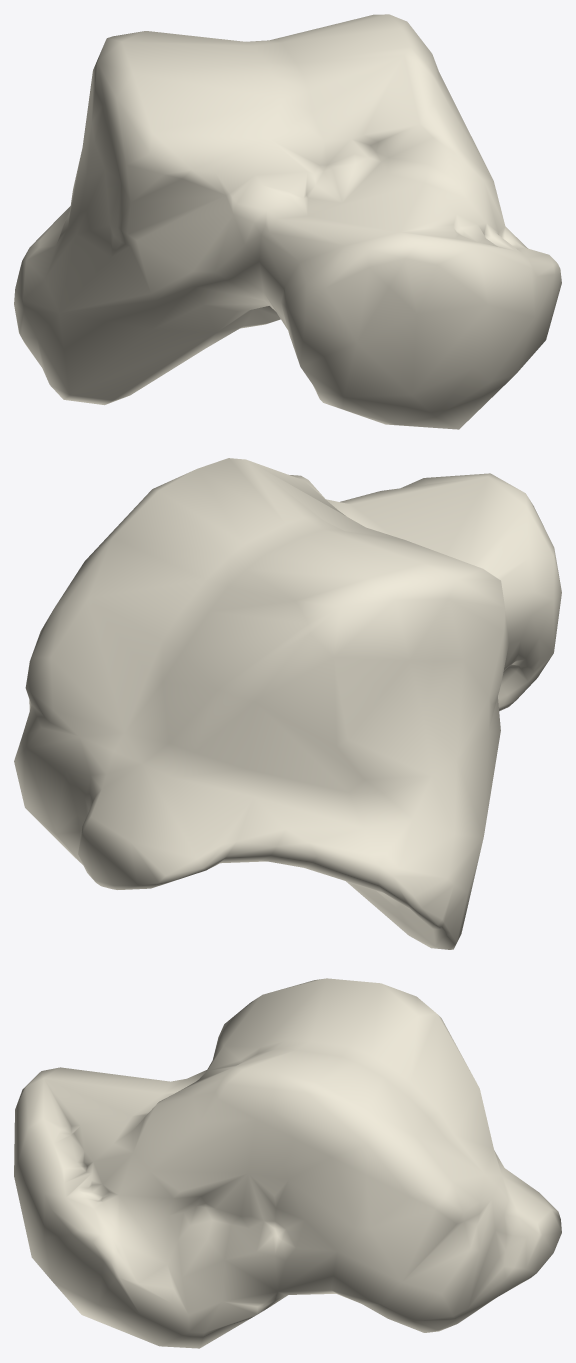
3 renders of one model, top to bottom at view 1: azimuth 30°, elevation 25°; view 2: azimuth 150°, elevation 25°; view 3: azimuth 270°, elevation 25°, orthographic. The views are drawn at different scales.
Visible parts, largest first — view 1: ZA_c1f6c7cdb515b619; view 2: ZA_c1f6c7cdb515b619; view 3: ZA_c1f6c7cdb515b619.
Boxes of the visible parts, x1,y1,x2,y2 form: ZA_c1f6c7cdb515b619: (14,14,561,429); ZA_c1f6c7cdb515b619: (14,458,561,949); ZA_c1f6c7cdb515b619: (14,978,561,1348).
Size of the model in its own units: 0.0421 by 0.0356 by 0.0591.
